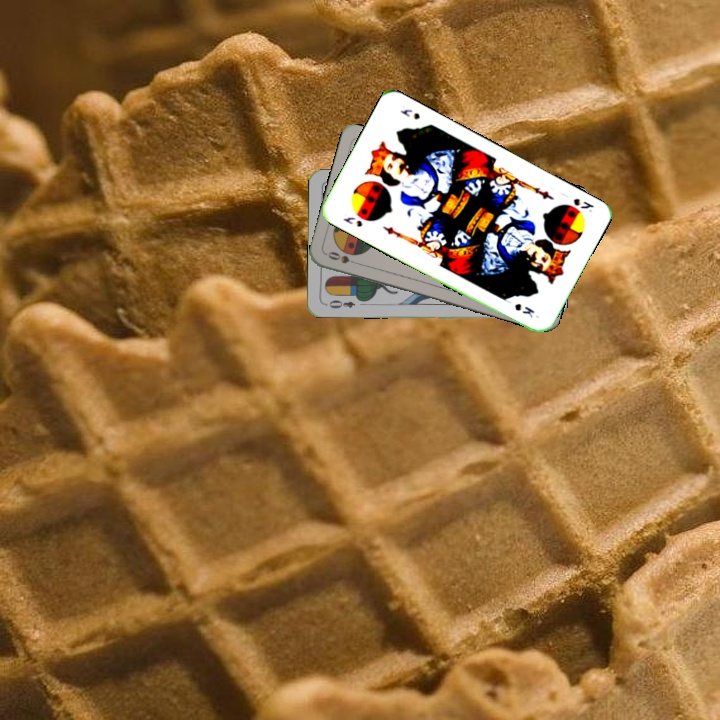EO: (322, 296, 358, 311)
SK: (569, 194, 597, 215), (339, 213, 365, 230)
SO: (323, 247, 363, 268)
